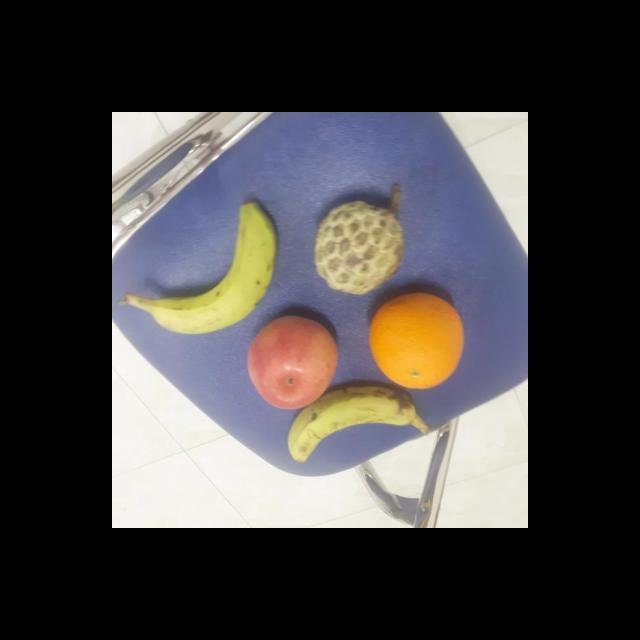Sakya fruit: (311, 198, 408, 298)
apple: (245, 314, 343, 414)
banana: (144, 200, 280, 336), (286, 384, 419, 469)
orange: (369, 293, 467, 392)
